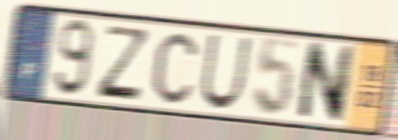5: (253, 38, 301, 121)
9: (52, 16, 97, 101)
C: (151, 30, 200, 107)
N: (294, 39, 358, 125)
U: (198, 31, 254, 112)
Z: (94, 23, 152, 104)
